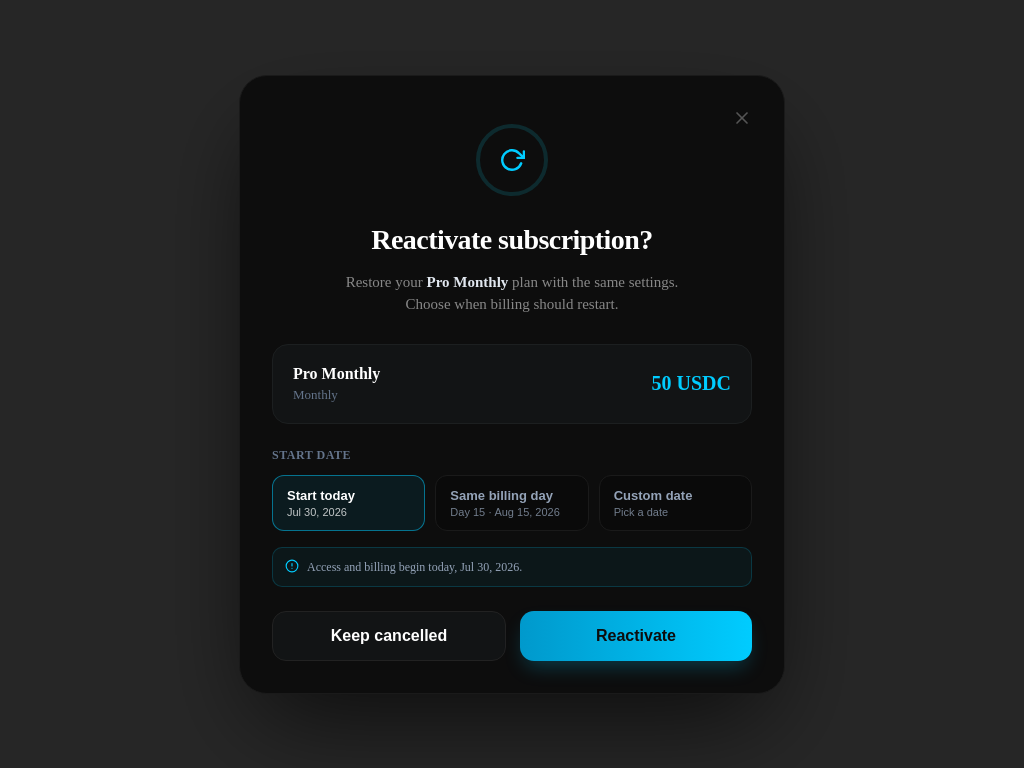
ReactivationModal – confirm button › is disabled in custom mode until a date is picked
Click the button "Custom date Pick a date". click: click(675, 502)
box: top-left (599, 474), bottom-right (752, 530)
(page scrolled)
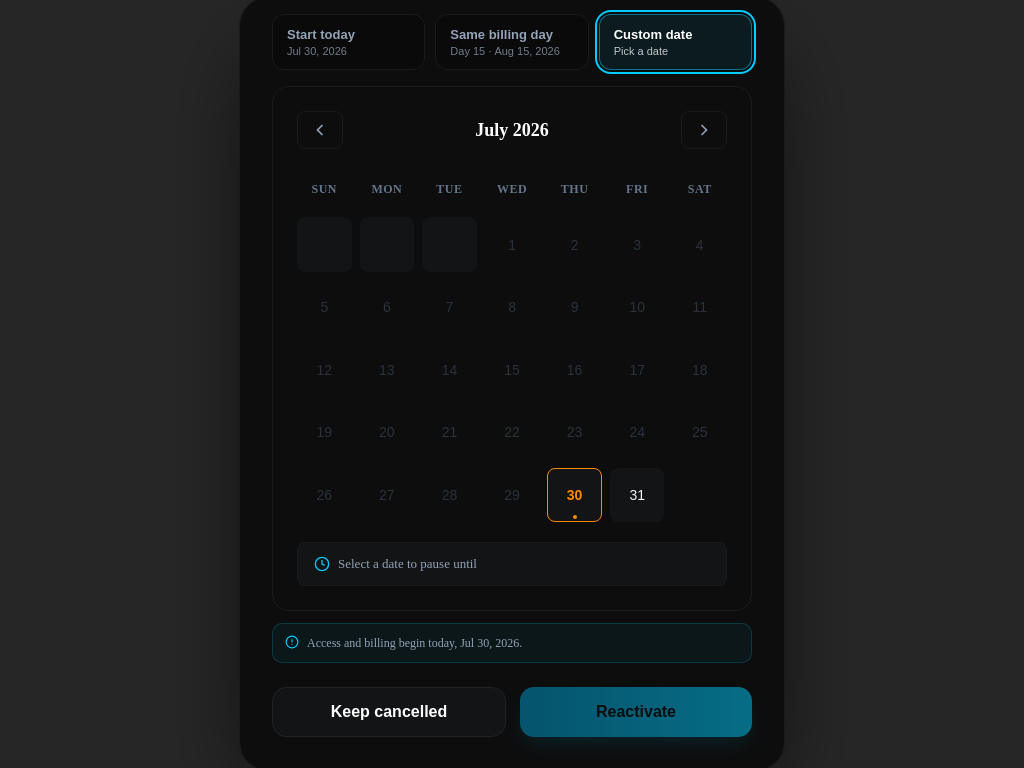
Expected: the button "Reactivate" is disabled, top-left (520, 688), bottom-right (752, 738)
